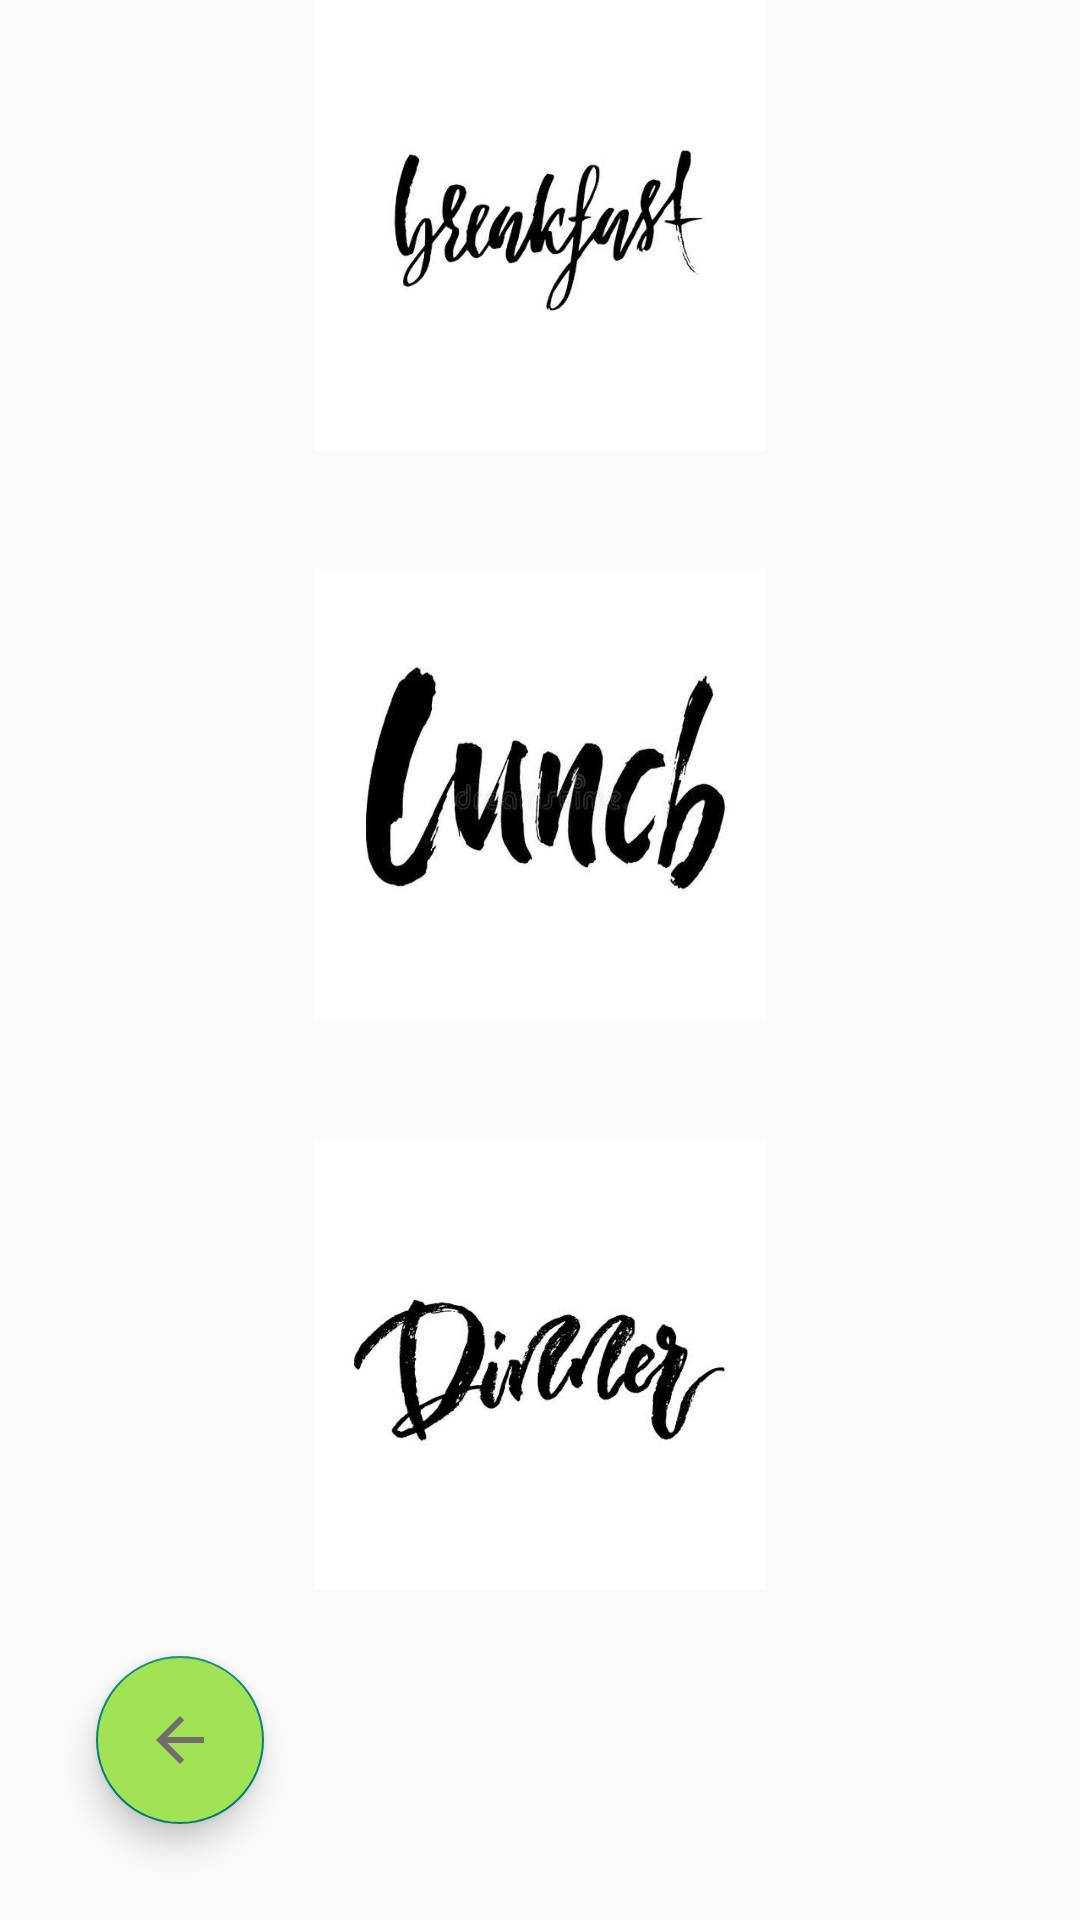

Locate icon controls on the screen. Image size 1080 × 1920, boxes as [x1,y1,x2,y2].
arrow back: [96,1656,264,1824]
